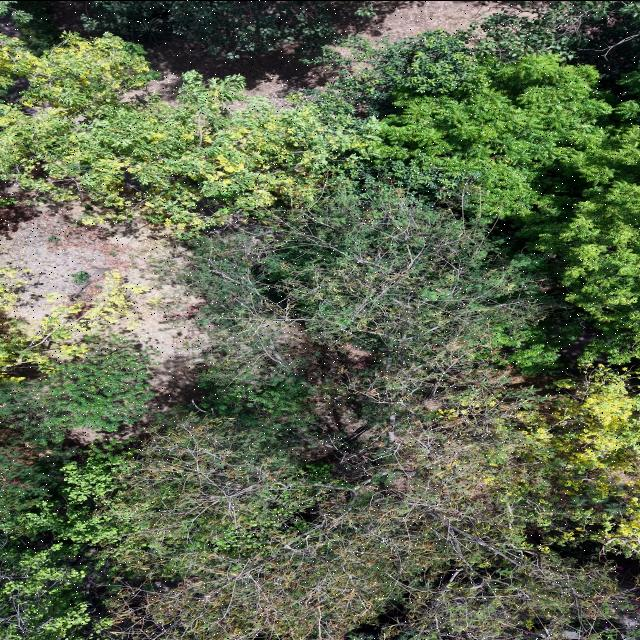DRY_AREA: (0, 201, 228, 445), (0, 201, 215, 445), (0, 201, 205, 444), (0, 200, 205, 442), (0, 201, 202, 443), (0, 200, 199, 444), (0, 201, 194, 352), (0, 202, 150, 327), (147, 36, 335, 103), (147, 37, 335, 102), (68, 354, 199, 445), (147, 36, 335, 99), (147, 36, 334, 99), (5, 204, 137, 291), (150, 42, 335, 99), (6, 206, 122, 290), (336, 1, 506, 39), (346, 1, 500, 40), (49, 1, 88, 34), (0, 15, 20, 37)
VEGETATION_TREE: (0, 1, 639, 639), (112, 375, 637, 639), (318, 33, 638, 372), (0, 35, 378, 233), (182, 190, 557, 389), (385, 55, 639, 343), (109, 416, 432, 639), (319, 1, 639, 116), (0, 442, 120, 639), (0, 340, 154, 445), (83, 1, 367, 57), (470, 1, 639, 80), (39, 347, 153, 439), (0, 1, 61, 52), (0, 1, 33, 22)
